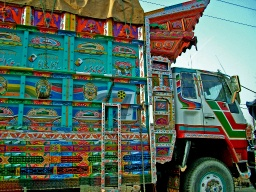truck: (1, 1, 252, 188)
